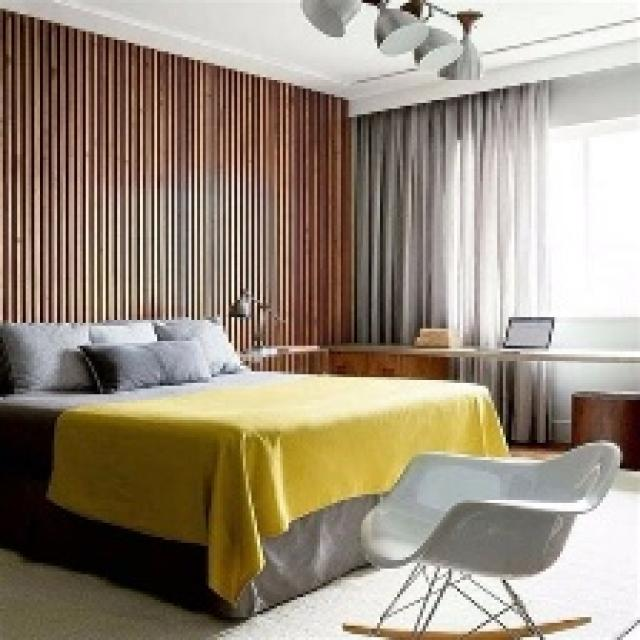Bed: (0, 314, 509, 620)
